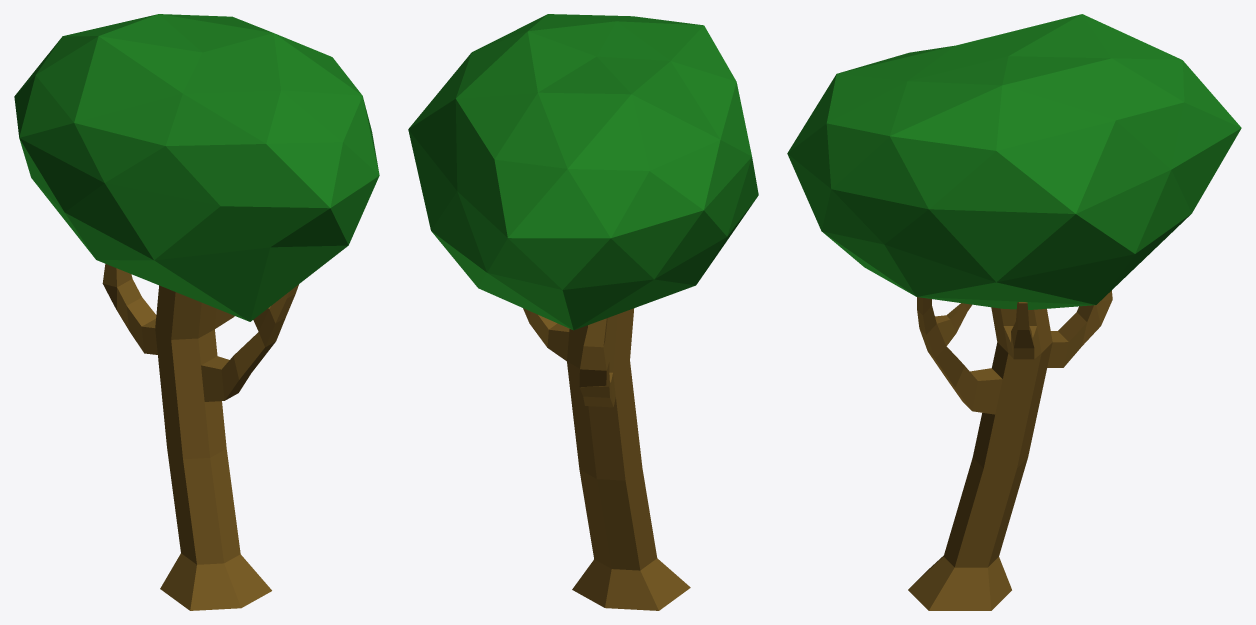
File: forest_tree_4.fbx
The picture shows the model from 3 angles, left to right: view 1: azimuth 30°, elevation 25°; view 2: azimuth 150°, elevation 25°; view 3: azimuth 270°, elevation 25°; orthographic projection. The views are drawn at different scales.
Parts seen in each view (by area): view 1: Icosphere.042; view 2: Icosphere.042; view 3: Icosphere.042.
Boxes of the visible parts, <box> form: Icosphere.042: <box>14,14,379,610</box>; Icosphere.042: <box>408,14,758,610</box>; Icosphere.042: <box>787,14,1241,610</box>.
Bounding box in the file's own units: 793 × 1380 × 1041.
